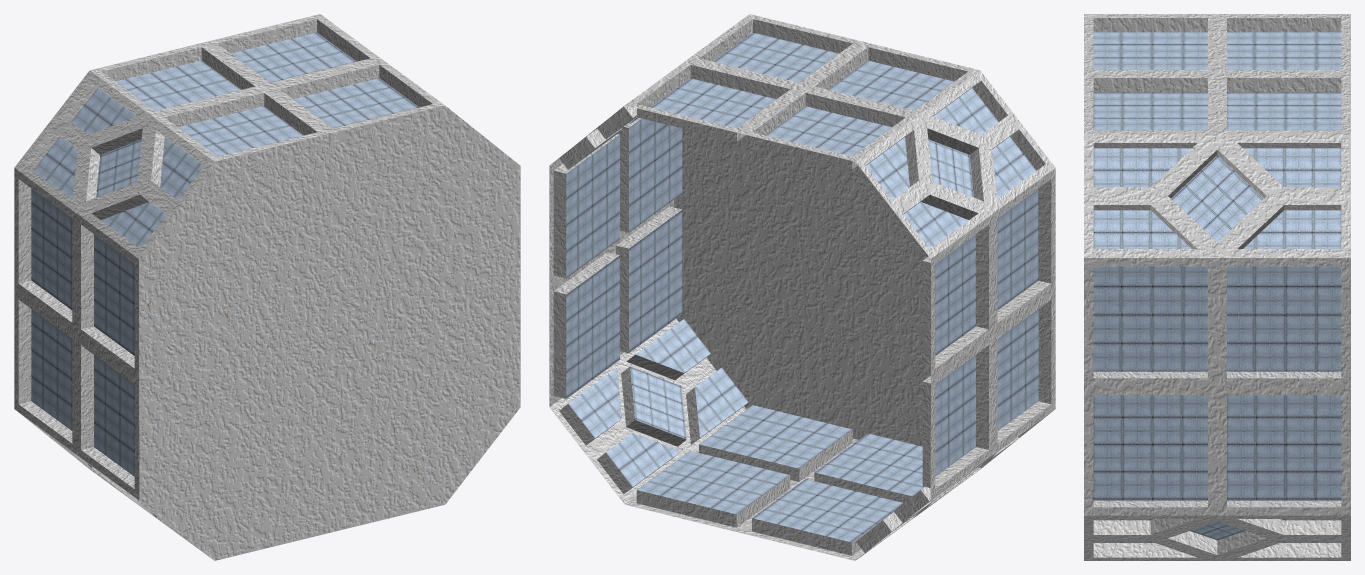
Rendered from module 1.obj.
3 renders of one model, left to right at view 1: azimuth 30°, elevation 25°; view 2: azimuth 150°, elevation 25°; view 3: azimuth 270°, elevation 25°, orthographic. The views are drawn at different scales.
Parts seen in each view (by area): view 1: module_1; view 2: module_1; view 3: module_1.
Part boxes in pixels (bbox=[...]): module_1: bbox=[14, 14, 520, 560]; module_1: bbox=[549, 14, 1055, 560]; module_1: bbox=[1084, 14, 1350, 560].
Size of the model in its own units: 0.1498 by 0.1498 by 0.0849.
